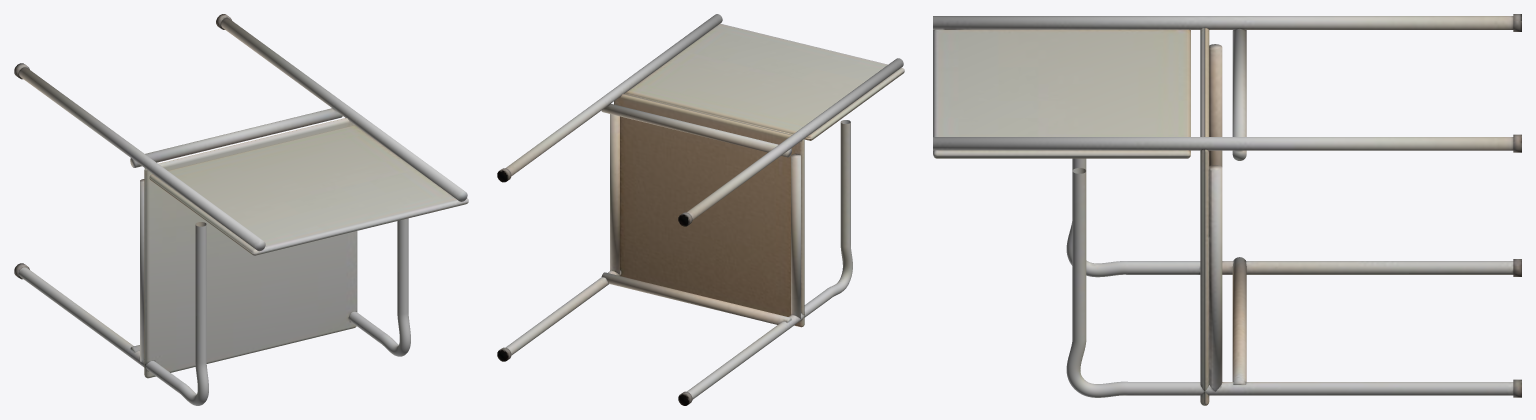
The model's file is C2_chair_final.obj.
3 renders of one model, left to right at view 1: azimuth 30°, elevation 25°; view 2: azimuth 150°, elevation 25°; view 3: azimuth 270°, elevation 25°, orthographic. The views are drawn at different scales.
Parts seen in each view (by area): view 1: C2_chair_final.001; view 2: C2_chair_final.001; view 3: C2_chair_final.001.
Boxes of the visible parts, bbox=[...] form: C2_chair_final.001: bbox=[14, 14, 468, 405]; C2_chair_final.001: bbox=[497, 14, 904, 405]; C2_chair_final.001: bbox=[933, 14, 1521, 405].
Size of the model in its own units: 0.44 by 0.426 by 0.845.
Materials: 1 (1 with a texture image).
